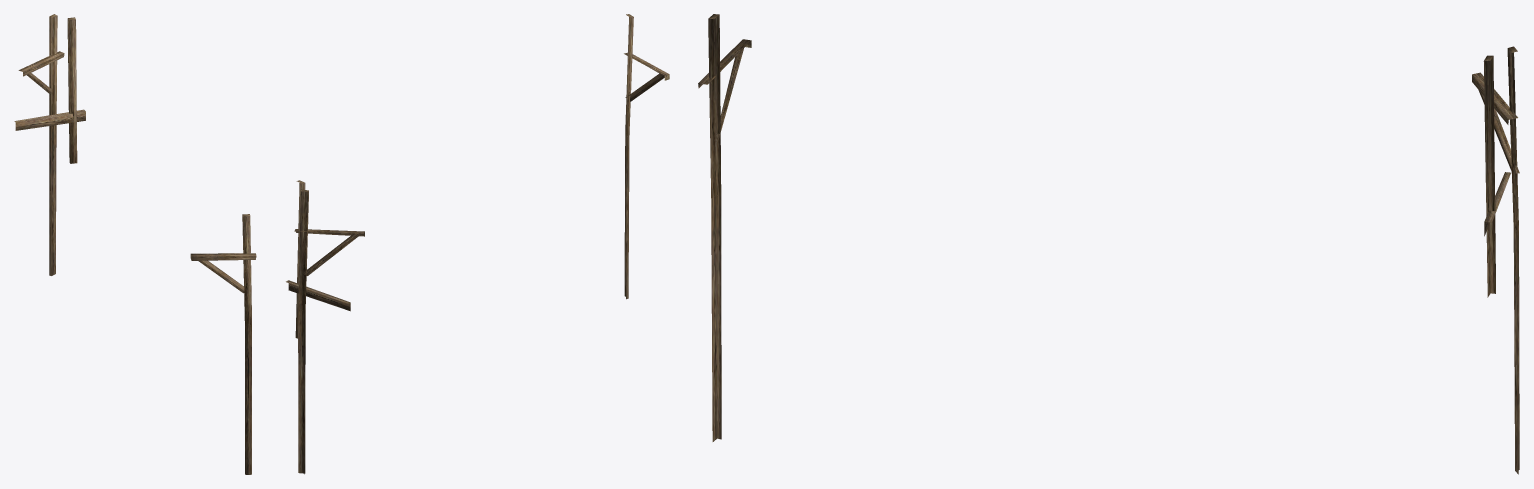
File: S_Build_West076_A.FBX
3 views of the same model, side by side, from view 1: azimuth 30°, elevation 25°; view 2: azimuth 150°, elevation 25°; view 3: azimuth 270°, elevation 25° (orthographic). The views are drawn at different scales.
Visible parts, largest first — view 1: S_Build_West076_001, S_Build_West076_003, S_Build_West076_002; view 2: S_Build_West076_003, S_Build_West076_001, S_Build_West076_002; view 3: S_Build_West076_001, S_Build_West076_003, S_Build_West076_002.
Boxes of the visible parts, box(x1,y1,x2,y2) form: S_Build_West076_001: box(190, 214, 256, 474); S_Build_West076_003: box(18, 14, 64, 275); S_Build_West076_002: box(14, 17, 85, 163); S_Build_West076_003: box(294, 189, 364, 474); S_Build_West076_001: box(624, 14, 669, 299); S_Build_West076_002: box(286, 180, 350, 338); S_Build_West076_001: box(698, 14, 751, 441); S_Build_West076_003: box(1472, 46, 1519, 474); S_Build_West076_002: box(1483, 55, 1510, 297).
Size of the model in its own units: 1034 by 2129 by 3672.
